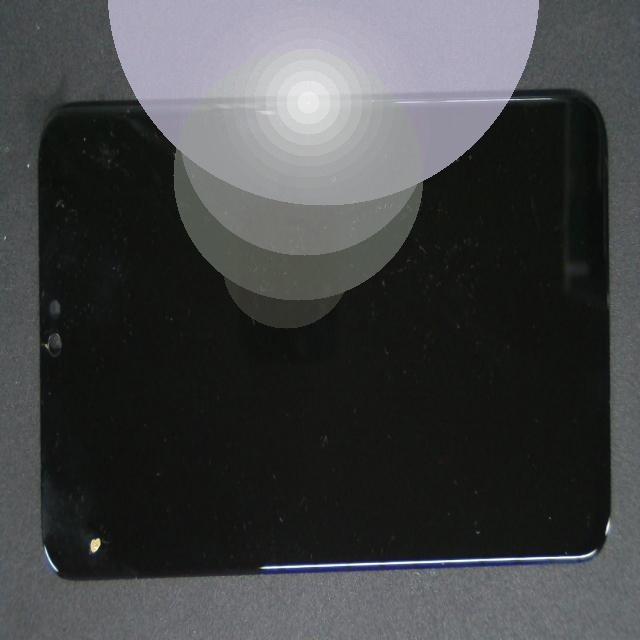stain: (57, 225, 130, 640)
